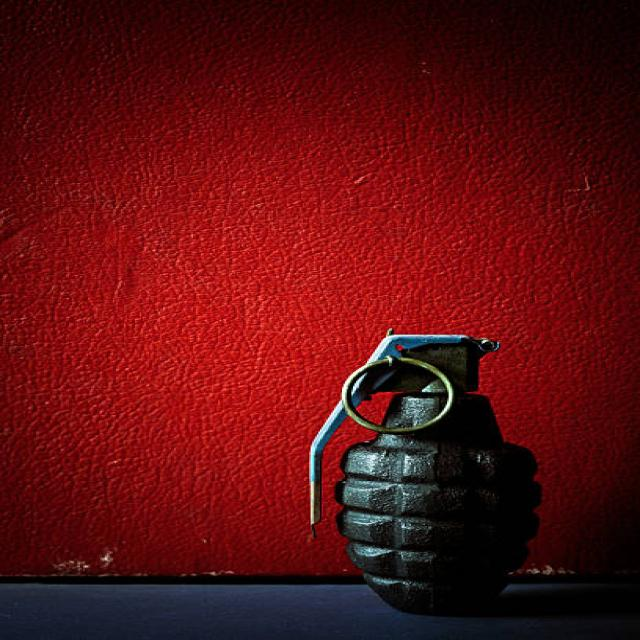grenade: (297, 326, 553, 631)
